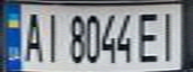0: (81, 10, 103, 64)
4: (115, 9, 139, 64), (100, 10, 118, 64)
8: (63, 10, 87, 64)
A: (18, 8, 45, 63)
E: (136, 9, 163, 64)
I: (154, 7, 184, 62), (39, 8, 63, 64)
